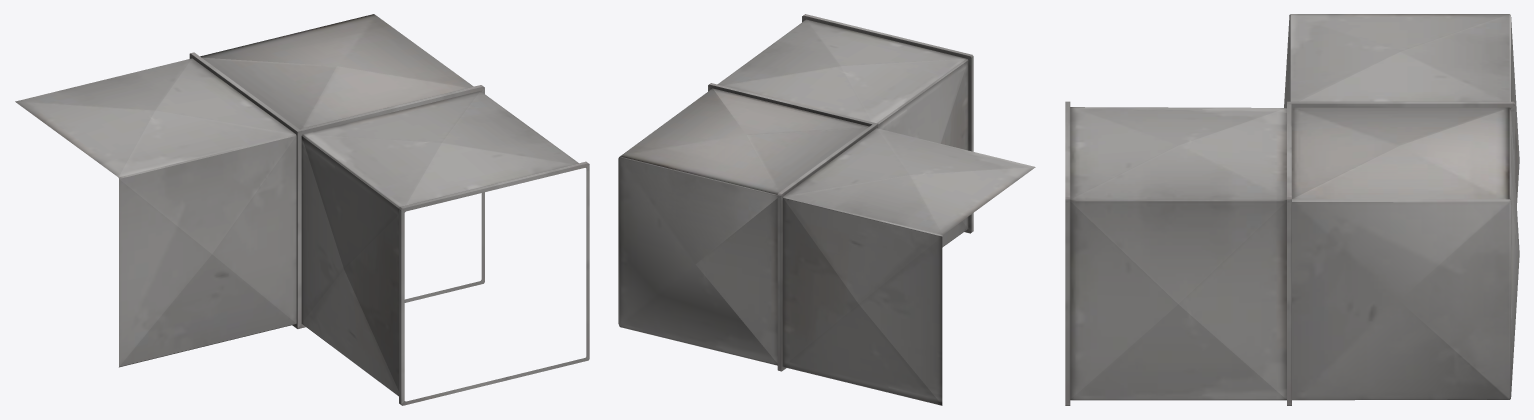
3 renders of one model, left to right at view 1: azimuth 30°, elevation 25°; view 2: azimuth 150°, elevation 25°; view 3: azimuth 270°, elevation 25°, orthographic. The views are drawn at different scales.
Visible parts, largest first — view 1: body0_model0_lod0_mesh0; view 2: body0_model0_lod0_mesh0; view 3: body0_model0_lod0_mesh0.
Boxes of the visible parts, <box> form: body0_model0_lod0_mesh0: <box>15,14,589,405</box>; body0_model0_lod0_mesh0: <box>618,14,1035,405</box>; body0_model0_lod0_mesh0: <box>1065,14,1519,405</box>.
Size of the model in its own units: 64.88 by 34.5 by 65.62.
Materials: 1 (1 with a texture image).
